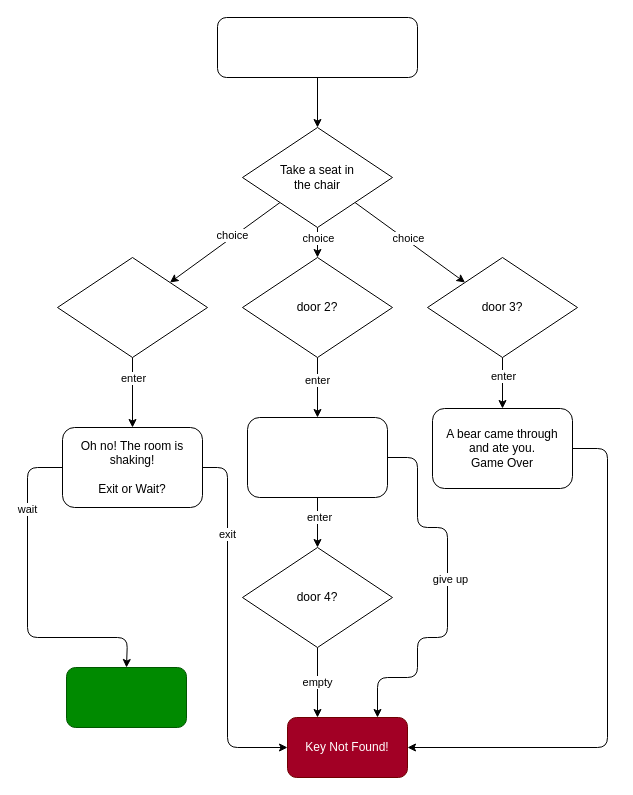
Image size: 633x795. Some labels were removed from this diagram. Each missing label, with the centre of its shape:
door 1?: the point at 132,307
Key Found!: the point at 126,697
Let's find the Silver Key: the point at 317,47
Ok this is a trick! Go through door 4 or give up?: the point at 317,457
